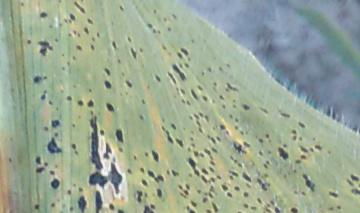tarspot: (87, 116, 103, 170), (108, 162, 123, 194), (89, 172, 108, 188), (147, 169, 166, 183), (47, 138, 63, 154), (187, 157, 200, 176), (302, 173, 315, 192), (38, 39, 53, 55), (162, 125, 174, 145), (173, 63, 186, 81), (94, 189, 103, 213), (73, 1, 87, 14), (103, 142, 112, 160), (78, 195, 87, 213), (225, 82, 239, 93), (277, 146, 288, 160), (234, 142, 246, 154), (167, 71, 177, 85), (115, 128, 124, 143), (151, 150, 160, 164), (175, 137, 185, 149), (204, 149, 214, 161), (242, 172, 252, 183), (190, 89, 199, 101), (50, 178, 60, 188), (104, 103, 115, 112), (328, 190, 339, 199), (228, 168, 239, 177), (143, 205, 155, 213), (136, 189, 143, 202), (33, 74, 42, 84), (211, 201, 218, 213), (124, 79, 133, 88), (181, 46, 189, 56), (52, 118, 60, 128), (259, 107, 269, 115), (69, 11, 76, 22), (35, 166, 46, 173), (280, 112, 291, 119), (39, 11, 48, 19), (103, 67, 111, 76), (155, 189, 163, 198), (241, 103, 250, 111), (297, 121, 306, 129), (300, 145, 309, 153), (104, 79, 111, 89), (130, 48, 137, 58), (212, 145, 219, 155), (350, 174, 360, 181), (141, 179, 149, 187), (347, 179, 355, 187), (111, 41, 118, 50), (315, 144, 324, 151), (260, 183, 267, 192), (177, 51, 183, 61), (36, 156, 42, 166), (289, 207, 299, 213), (75, 44, 83, 51), (118, 4, 125, 12), (87, 100, 94, 108), (171, 12, 178, 20), (193, 112, 200, 120), (201, 168, 209, 175), (207, 191, 214, 199), (208, 184, 215, 192), (244, 140, 251, 148), (292, 188, 299, 196), (84, 26, 90, 35), (202, 175, 208, 184), (351, 188, 360, 194), (87, 18, 94, 25), (77, 100, 84, 107), (126, 169, 133, 176), (172, 170, 179, 177), (216, 174, 223, 181), (234, 185, 241, 192), (266, 148, 273, 155), (90, 44, 96, 52), (155, 75, 161, 83), (171, 123, 177, 131), (219, 124, 227, 130), (196, 187, 202, 195), (222, 184, 228, 192), (257, 197, 263, 205), (26, 39, 32, 46), (66, 95, 73, 101), (184, 62, 190, 69), (118, 147, 124, 154), (197, 86, 204, 92), (202, 95, 208, 102), (200, 70, 206, 77), (218, 66, 224, 73), (219, 95, 226, 101), (190, 142, 196, 149), (49, 170, 56, 176), (66, 188, 72, 195), (108, 204, 115, 210), (140, 167, 146, 174), (185, 183, 191, 190), (208, 166, 214, 173), (226, 192, 233, 198), (257, 137, 264, 143), (258, 150, 264, 157), (229, 155, 235, 162), (257, 177, 263, 184), (263, 172, 270, 178), (282, 173, 288, 180), (145, 24, 153, 29), (187, 98, 192, 106), (196, 119, 201, 127), (212, 135, 216, 145), (194, 150, 199, 158), (244, 191, 249, 199), (41, 94, 47, 100), (162, 45, 168, 51), (180, 89, 186, 95), (198, 128, 204, 134), (199, 152, 205, 158), (210, 160, 216, 166), (89, 110, 95, 116), (34, 204, 40, 210), (78, 187, 84, 193), (184, 190, 190, 196), (191, 201, 197, 207), (239, 130, 245, 136), (292, 135, 298, 141), (244, 203, 250, 209), (301, 154, 307, 160), (71, 84, 77, 90), (63, 17, 68, 24), (96, 31, 101, 38), (71, 54, 76, 61), (48, 99, 53, 106), (153, 8, 158, 15), (187, 56, 192, 63), (44, 125, 49, 132), (7, 156, 12, 163), (72, 143, 77, 150), (205, 115, 210, 122), (217, 135, 222, 142), (206, 133, 211, 140), (187, 145, 192, 152), (234, 124, 239, 131), (266, 208, 273, 213), (283, 142, 288, 149), (133, 154, 137, 162), (222, 103, 226, 111), (189, 209, 197, 213), (20, 2, 25, 8), (77, 32, 82, 38), (127, 37, 132, 43), (87, 88, 93, 93), (141, 99, 146, 105), (140, 115, 145, 121), (100, 129, 105, 135), (144, 151, 149, 157), (213, 81, 218, 87), (150, 203, 155, 209), (178, 191, 184, 196), (203, 197, 208, 203), (211, 177, 216, 183), (234, 117, 239, 123), (292, 129, 297, 135), (298, 135, 303, 141), (337, 204, 342, 210), (275, 208, 281, 213), (301, 190, 306, 196), (265, 133, 270, 139), (312, 136, 317, 142), (296, 159, 302, 164), (263, 163, 268, 169), (238, 163, 243, 169), (327, 149, 332, 155), (200, 111, 204, 118), (310, 146, 314, 153), (55, 38, 60, 43), (67, 32, 72, 37), (91, 37, 96, 42), (61, 66, 66, 71), (43, 75, 48, 80), (163, 17, 168, 22), (74, 150, 79, 155), (71, 123, 76, 128), (69, 206, 74, 211), (178, 185, 183, 190), (232, 98, 237, 103), (228, 114, 233, 119), (226, 63, 231, 68), (270, 201, 275, 206), (117, 58, 121, 64), (180, 63, 184, 69), (54, 131, 58, 137), (182, 99, 186, 105), (208, 67, 212, 73), (118, 209, 124, 213), (167, 168, 170, 176), (206, 209, 212, 213), (328, 207, 334, 211), (266, 159, 270, 165), (73, 30, 77, 35), (66, 61, 70, 66), (43, 90, 48, 94), (140, 48, 144, 53), (168, 28, 172, 33), (191, 39, 195, 44), (190, 137, 194, 142), (44, 162, 49, 166), (51, 203, 55, 208), (145, 193, 149, 198), (233, 104, 237, 109), (251, 206, 256, 210), (267, 183, 272, 187), (187, 205, 190, 211), (49, 25, 53, 29), (61, 53, 65, 57), (212, 99, 216, 103), (266, 203, 270, 207), (234, 160, 238, 164), (152, 30, 157, 33), (190, 116, 193, 121), (294, 169, 297, 174), (230, 176, 233, 180), (159, 30, 161, 35), (237, 211, 242, 213)
